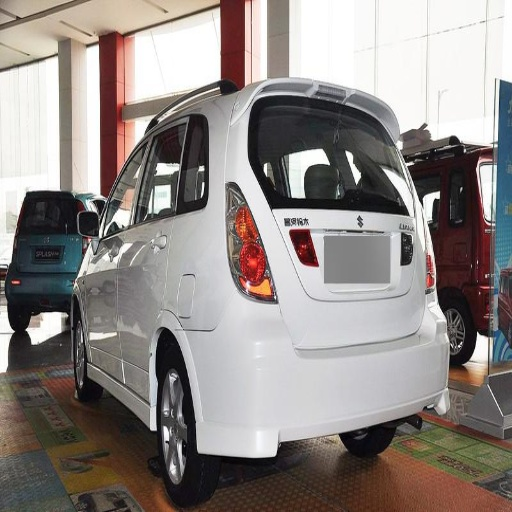back_bumper: (186, 289, 448, 457)
back_glass: (262, 101, 408, 211)
back_left_door: (123, 113, 206, 387)
back_left_light: (226, 202, 277, 301)
back_right_door: (251, 101, 273, 181)
tailgate: (249, 198, 420, 308)
trunk: (297, 307, 417, 347)
